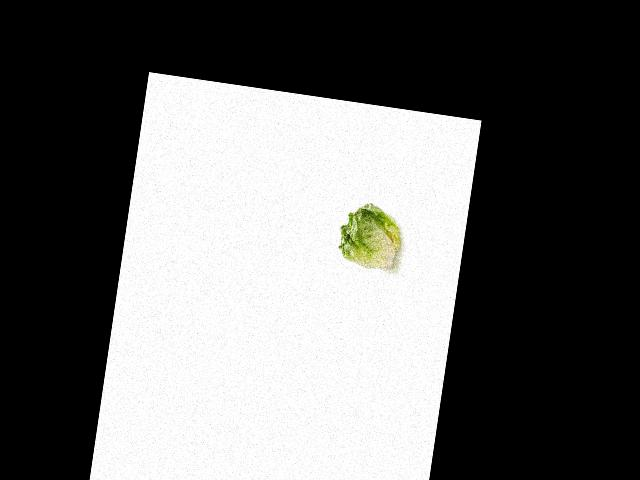lettuce: (332, 196, 404, 276)
